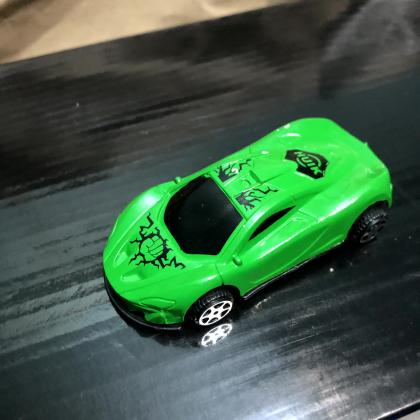Car: (102, 118, 393, 334)
